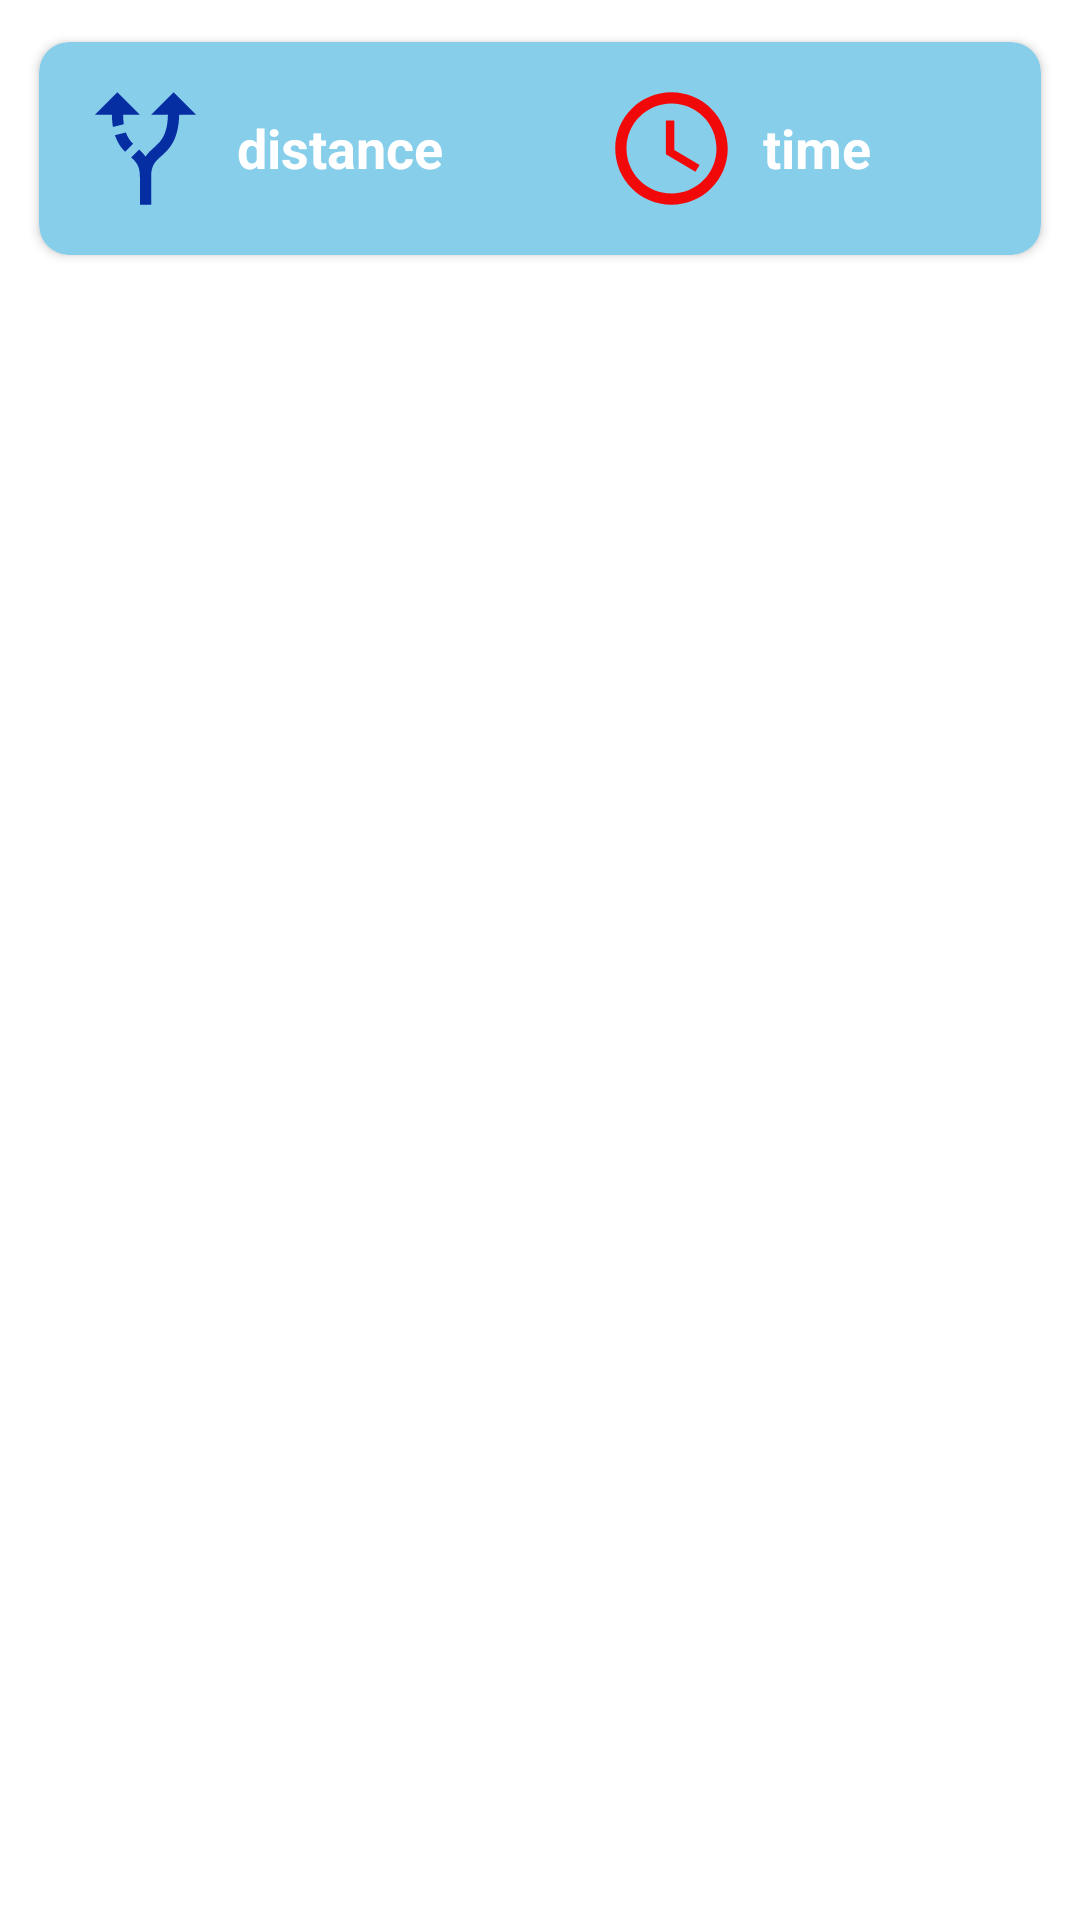

Point at icon controls on the screen. Image size 1080x1920, points as (x=x, y=y).
route: (x=145, y=148)
